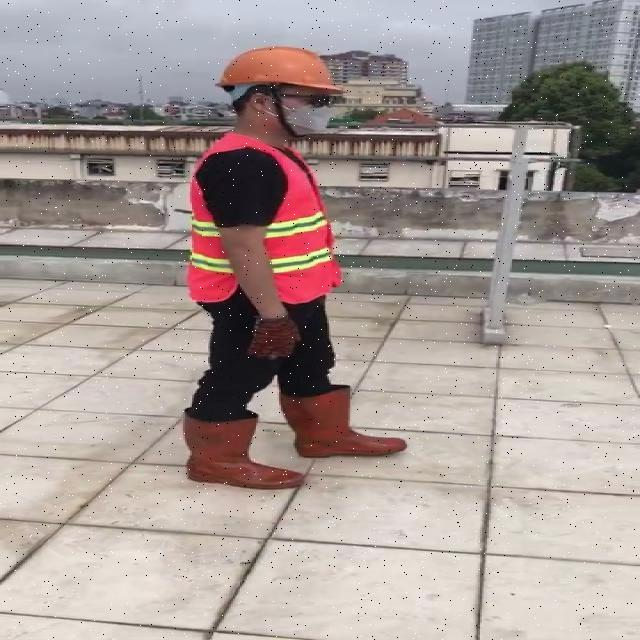Hard_hat: (211, 43, 348, 106)
Person: (161, 38, 412, 496)
Vest: (185, 135, 340, 307)
